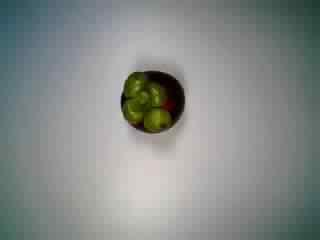mangosteen: (114, 61, 187, 141)
